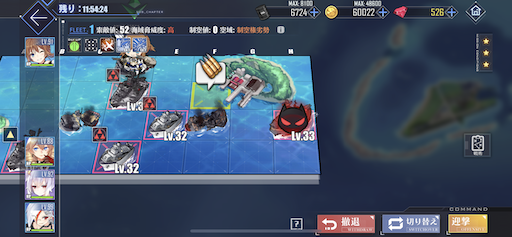boss: (269, 95, 316, 142)
lv3: (92, 129, 140, 173), (107, 69, 152, 109), (141, 98, 183, 140)
